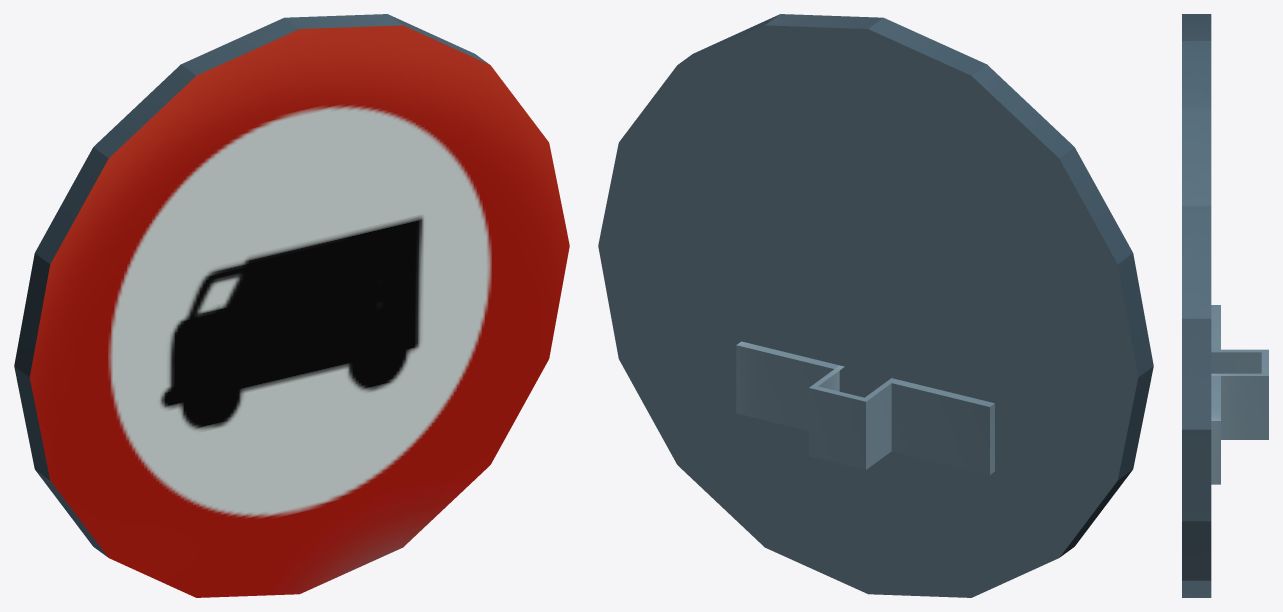
File: Sign52Austrian.fbx
3 renders of one model, left to right at view 1: azimuth 30°, elevation 25°; view 2: azimuth 150°, elevation 25°; view 3: azimuth 270°, elevation 25°, orthographic. The views are drawn at different scales.
Visible parts, largest first — view 1: Sign52Austrian; view 2: Sign52Austrian; view 3: Sign52Austrian.
Boxes of the visible parts, box(x1,y1,x2,y2) form: Sign52Austrian: box(14, 14, 569, 597); Sign52Austrian: box(598, 14, 1153, 597); Sign52Austrian: box(1182, 14, 1268, 597).
Bounding box in the file's own units: 1 × 1 × 0.1489.
